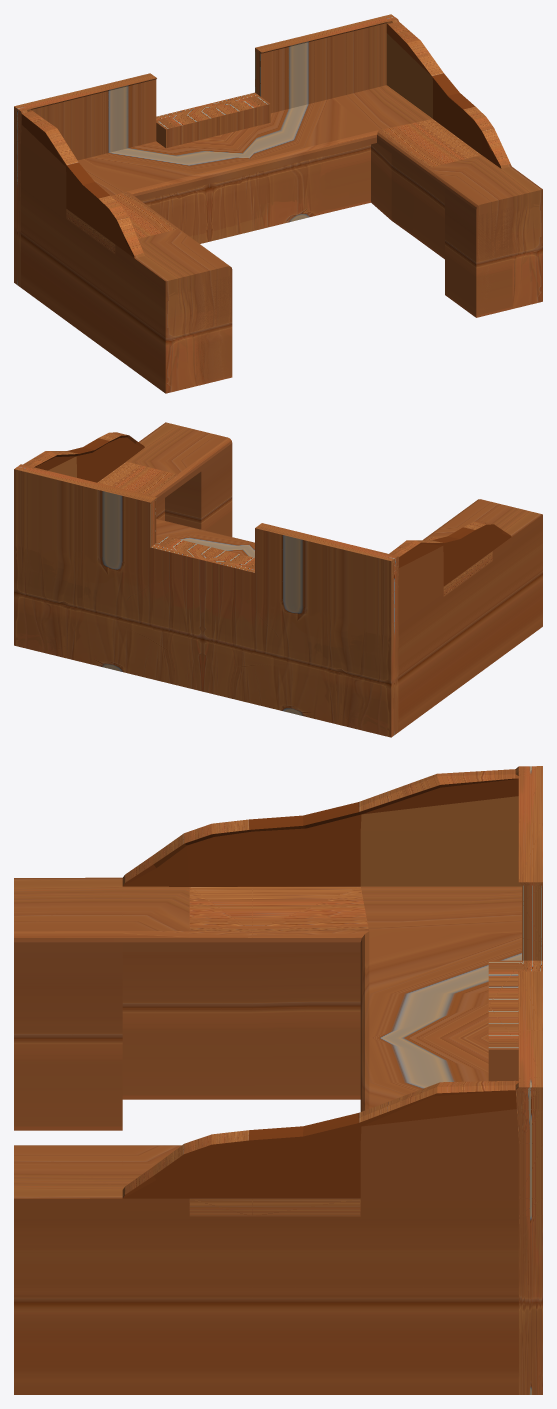
File: table2fix.fbx
The picture shows the model from 3 angles, top to bottom: view 1: azimuth 30°, elevation 25°; view 2: azimuth 150°, elevation 25°; view 3: azimuth 270°, elevation 25°; orthographic projection. The views are drawn at different scales.
Visible parts, largest first — view 1: Cube; view 2: Cube; view 3: Cube.
Boxes of the visible parts, bbox=[...] form: Cube: bbox=[14, 14, 542, 393]; Cube: bbox=[14, 422, 542, 737]; Cube: bbox=[14, 766, 542, 1394].
Size of the model in its own units: 456 by 204 by 317.
2 materials, 2 textured.
